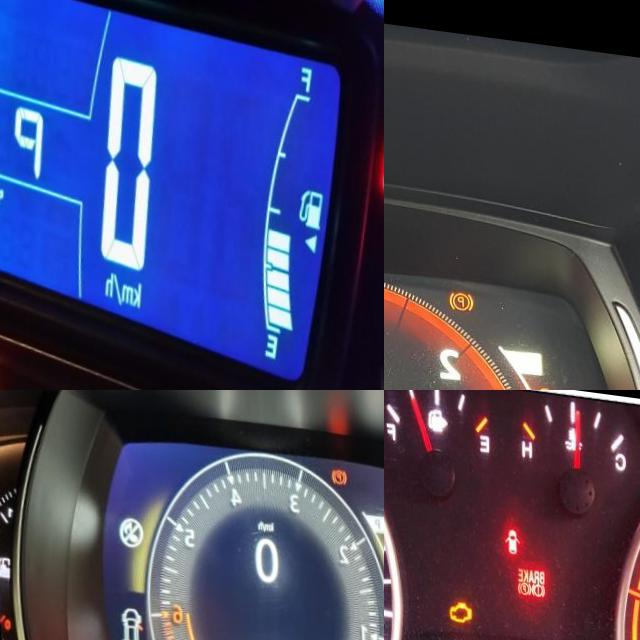Doors: (505, 518, 521, 546)
